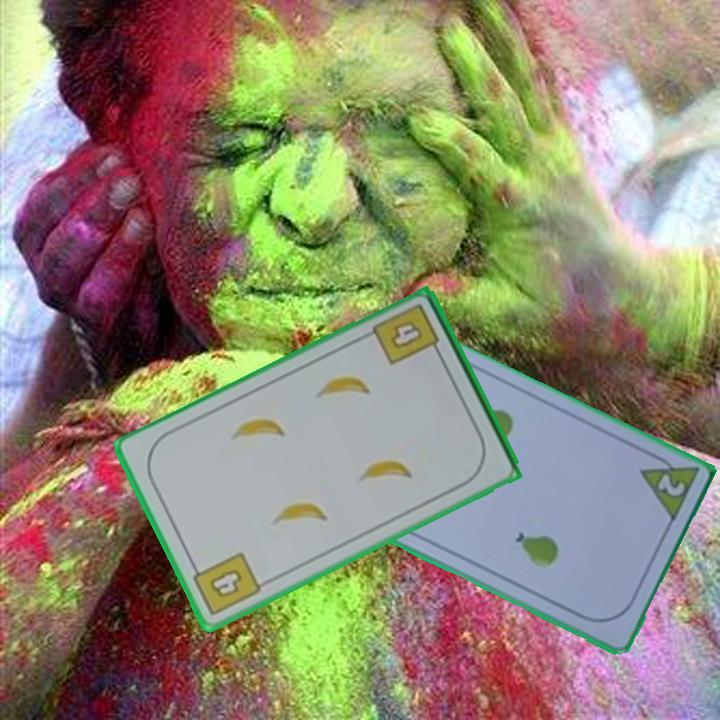2p: (634, 447, 702, 527)
4b: (187, 548, 264, 620), (369, 300, 445, 369)
